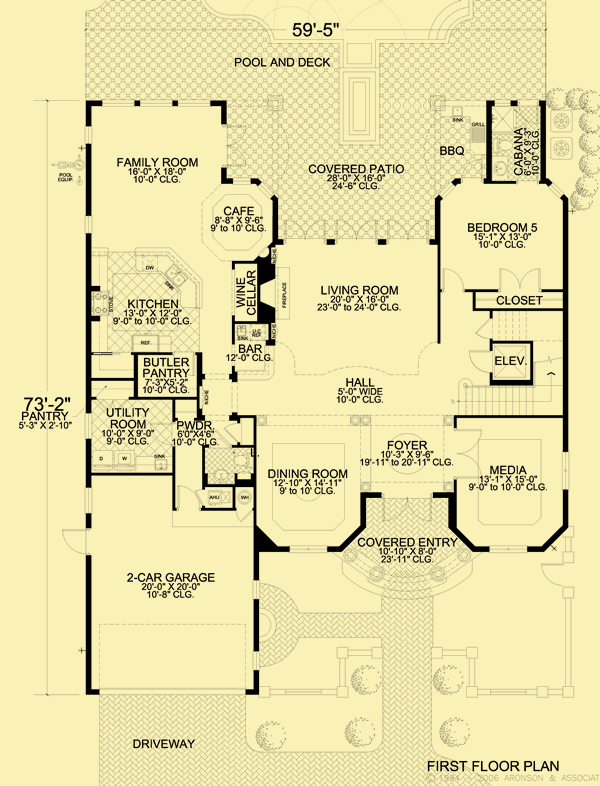door: (452, 424, 485, 481), (496, 264, 542, 293), (58, 523, 87, 559), (437, 264, 466, 295), (174, 481, 201, 514), (466, 347, 491, 374), (473, 314, 491, 341)
kitchen bar: (131, 244, 206, 307)
stairs: (447, 307, 566, 421)
windows: (98, 94, 215, 110), (281, 539, 333, 559), (556, 447, 575, 496), (486, 543, 532, 560)
